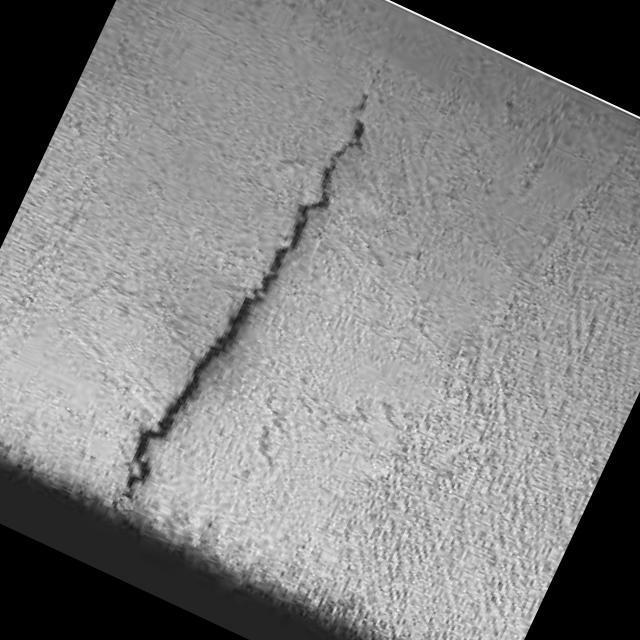defect: (115, 110, 374, 504)
